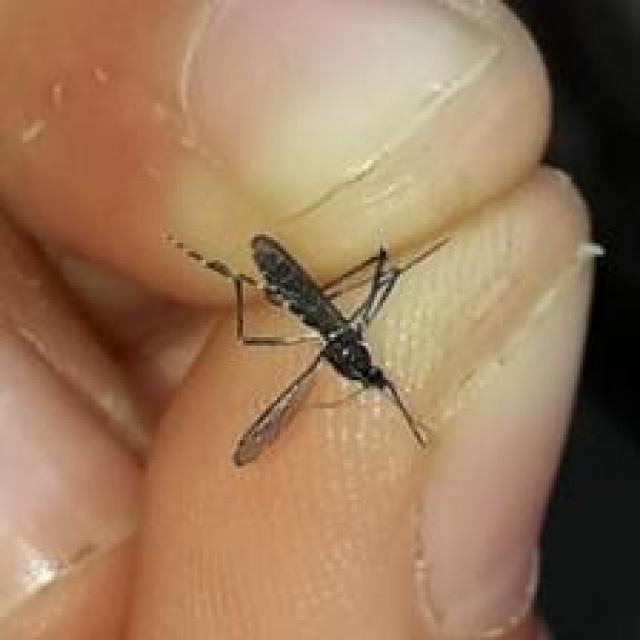Aedes albopictus: (158, 226, 453, 468)
